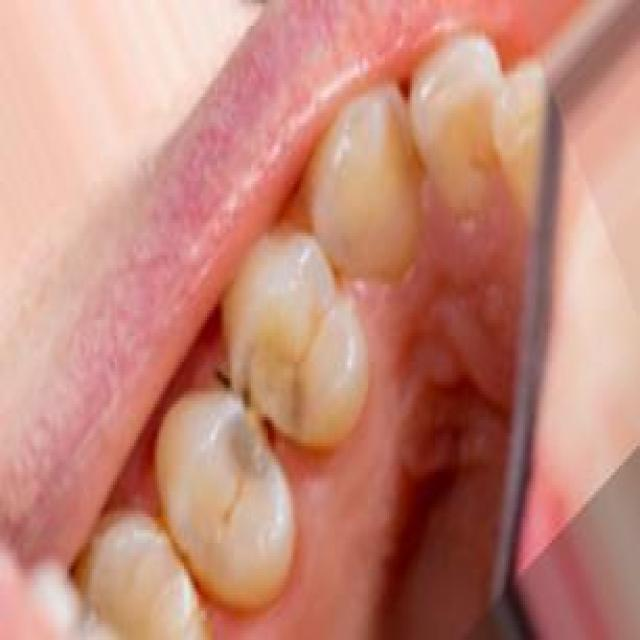caries: (211, 316, 310, 504)
